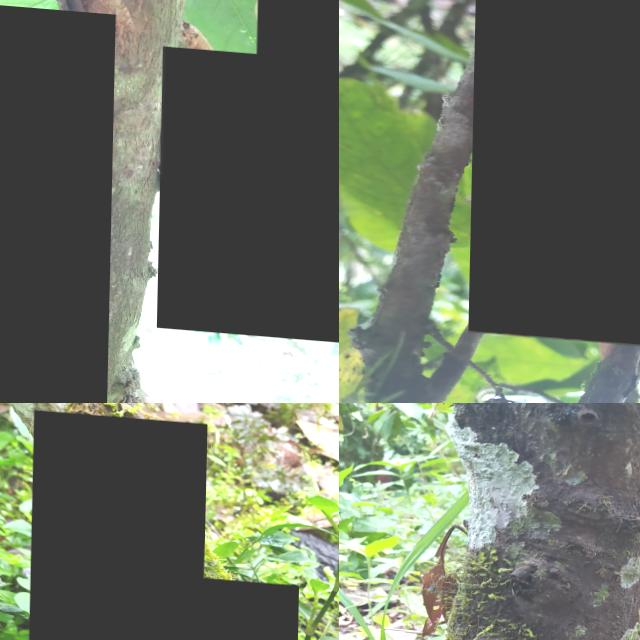Fitoftora: (159, 41, 339, 337), (30, 406, 208, 640), (255, 0, 339, 214), (112, 566, 299, 640)
Monilia: (470, 0, 640, 349)
Sana: (0, 0, 116, 403)
